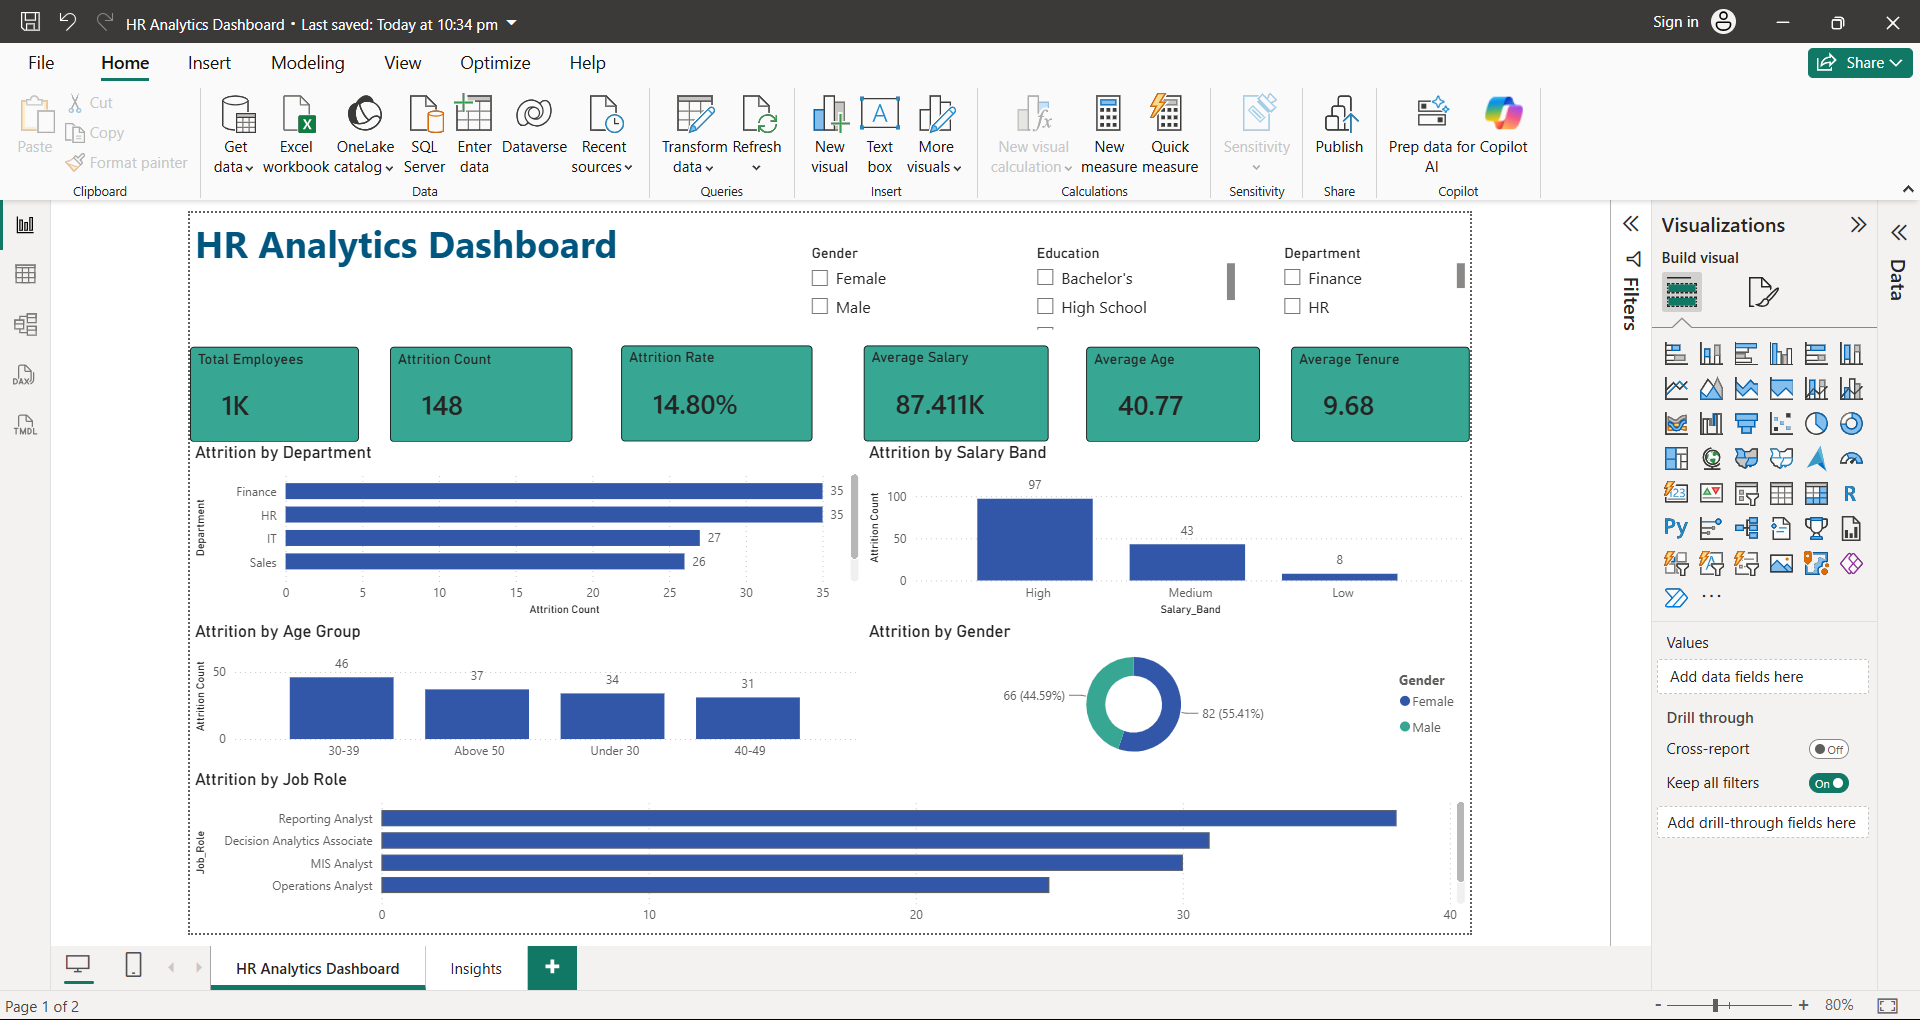

The page's visual inventory and layout, read from the dashboard file:
{"tool":"powerbi","page":{"name":"HR Analytics Dashboard","canvas":[1280,720],"ordinal":0},"visuals":[{"type":"cardVisual","title":"Total Employees","fields":{"Data":["Measures (2).Total Employees"]},"box":[0,133.8,168.8,95],"z":0},{"type":"cardVisual","title":"Attrition Count","fields":{"Data":["Measures (2).Attrition Count"]},"box":[200,133.8,182.5,95],"z":1000},{"type":"cardVisual","title":"Attrition Rate","fields":{"Data":["Measures (2).Attrition Rate"]},"box":[431.2,132.5,191.2,96.2],"z":2000},{"type":"cardVisual","title":"Average Salary","fields":{"Data":["Measures (2).Average Salary"]},"box":[673.8,132.5,185,96.2],"z":3000},{"type":"cardVisual","title":"Average Age","fields":{"Data":["Measures (2).Average Age"]},"box":[896.2,133.8,173.8,95],"z":4000},{"type":"cardVisual","title":"Average Tenure","fields":{"Data":["Measures (2).Average Tenure"]},"box":[1101.2,133.8,178.8,95],"z":5000},{"type":"clusteredBarChart","title":"Attrition by Department","fields":{"Category":["HR_Analytics_Data.Department"],"Y":["Measures (2).Attrition Count"]},"box":[0,228.8,673.8,178.8],"z":6000},{"type":"donutChart","title":"Attrition by Gender","fields":{"Category":["HR_Analytics_Data.Gender"],"Y":["Measures (2).Attrition Count"]},"box":[673.8,407.5,606.2,148.8],"z":7000},{"type":"clusteredColumnChart","title":"Attrition by Age Group","fields":{"Category":["HR_Analytics_Data.Age_Group"],"Y":["Measures (2).Attrition Count"]},"box":[0,407.5,673.8,148.8],"z":8000},{"type":"clusteredColumnChart","title":"Attrition by Salary Band","fields":{"Category":["HR_Analytics_Data.Salary_Band"],"Y":["Measures (2).Attrition Count"]},"box":[673.8,228.8,606.2,178.8],"z":9000},{"type":"clusteredBarChart","title":"Attrition by Job Role","fields":{"Category":["HR_Analytics_Data.Job_Role"],"Y":["Measures (2).Attrition Count"]},"box":[0,556.2,1280,163.8],"z":10000},{"type":"textbox","box":[0,0,527.5,121.2],"z":11000},{"type":"slicer","fields":{"Values":["HR_Analytics_Data.Education"]},"box":[833.8,26.2,216.2,95],"z":12000},{"type":"slicer","fields":{"Values":["HR_Analytics_Data.Gender"]},"box":[608.8,26.2,200,95],"z":13000},{"type":"slicer","fields":{"Values":["HR_Analytics_Data.Department"]},"box":[1081.2,26.2,198.8,90],"z":14000}]}

Visuals, with their boxes on the page's 1280x720 design canvas (x1, y1, x2, y2). These are canvas units, not pixel positions in the 1920x1020 screenshot, which may show the page scaled, cropped or inside an application window:
"Total Employees" cardVisual: x1=0 y1=134 x2=169 y2=229
"Attrition Count" cardVisual: x1=200 y1=134 x2=382 y2=229
"Attrition Rate" cardVisual: x1=431 y1=132 x2=622 y2=229
"Average Salary" cardVisual: x1=674 y1=132 x2=859 y2=229
"Average Age" cardVisual: x1=896 y1=134 x2=1070 y2=229
"Average Tenure" cardVisual: x1=1101 y1=134 x2=1280 y2=229
"Attrition by Department" clusteredBarChart: x1=0 y1=229 x2=674 y2=408
"Attrition by Gender" donutChart: x1=674 y1=408 x2=1280 y2=556
"Attrition by Age Group" clusteredColumnChart: x1=0 y1=408 x2=674 y2=556
"Attrition by Salary Band" clusteredColumnChart: x1=674 y1=229 x2=1280 y2=408
"Attrition by Job Role" clusteredBarChart: x1=0 y1=556 x2=1280 y2=720
textbox: x1=0 y1=0 x2=528 y2=121
slicer - HR_Analytics_Data.Education: x1=834 y1=26 x2=1050 y2=121
slicer - HR_Analytics_Data.Gender: x1=609 y1=26 x2=809 y2=121
slicer - HR_Analytics_Data.Department: x1=1081 y1=26 x2=1280 y2=116
